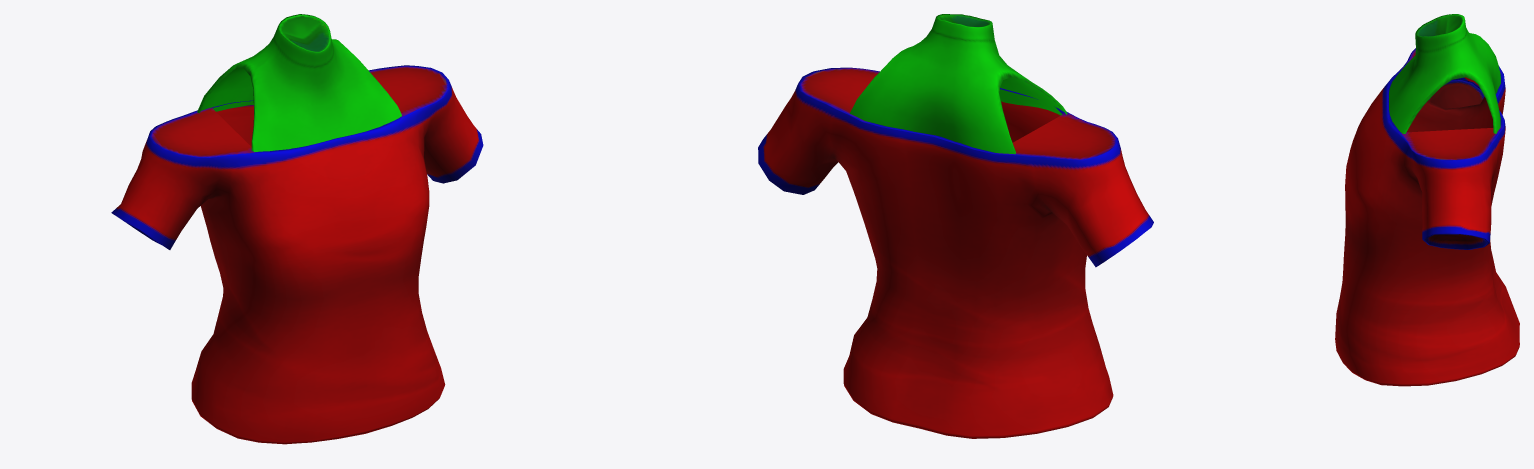
The model's file is Top_OpenShoulder.obj.
The picture shows the model from 3 angles, left to right: view 1: azimuth 30°, elevation 25°; view 2: azimuth 150°, elevation 25°; view 3: azimuth 270°, elevation 25°; orthographic projection. The views are drawn at different scales.
Visible parts, largest first — view 1: Top_OpenShoulder_0; view 2: Top_OpenShoulder_0; view 3: Top_OpenShoulder_0.
Boxes of the visible parts, x1,y1,x2,y2 form: Top_OpenShoulder_0: (111,14,483,444); Top_OpenShoulder_0: (758,14,1153,438); Top_OpenShoulder_0: (1335,14,1519,386).
Size of the model in its own units: 0.8632 by 0.4985 by 0.2583.
1 material, 1 textured.
